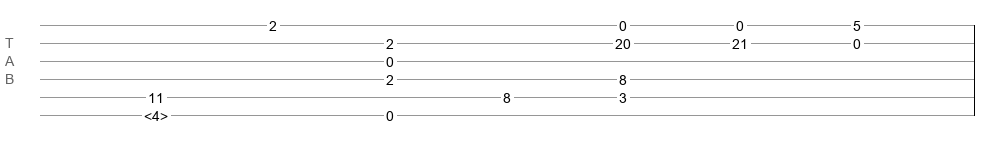0: (386, 108, 394, 118), (386, 54, 394, 64), (619, 18, 627, 28), (736, 18, 744, 28), (853, 36, 861, 46)
11: (148, 90, 164, 100)
2: (269, 18, 277, 28), (386, 36, 394, 46), (386, 72, 394, 82)
20: (615, 36, 631, 46)
21: (732, 36, 748, 46)
3: (619, 90, 627, 100)
5: (853, 18, 861, 28)
8: (503, 90, 511, 100), (619, 72, 627, 82)
harmonic: (144, 108, 168, 118)
